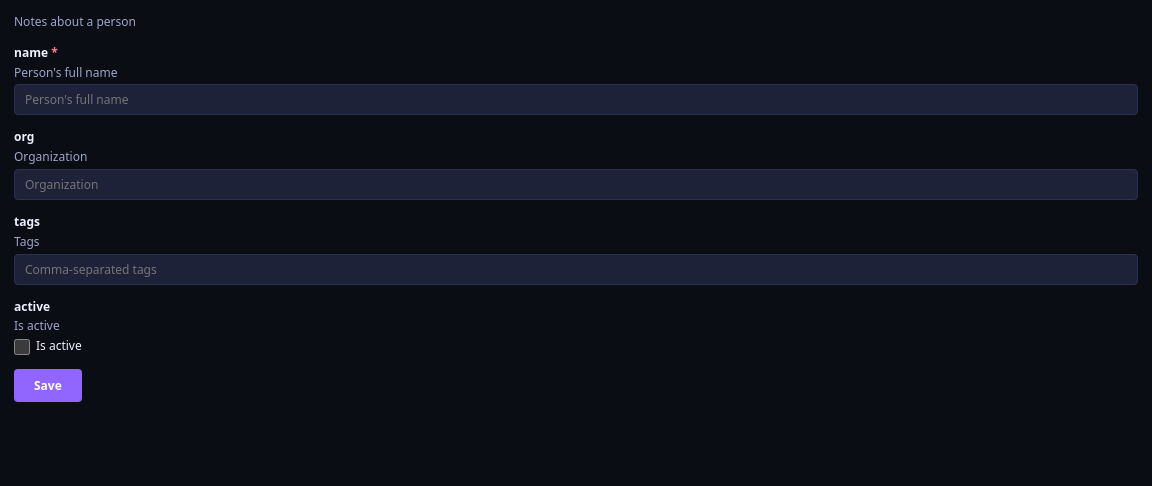
Test: FormEditor — validation › prevents save when required string field is empty
Click the button with test id "form-save-btn": (48, 386) [14,369,82,402]
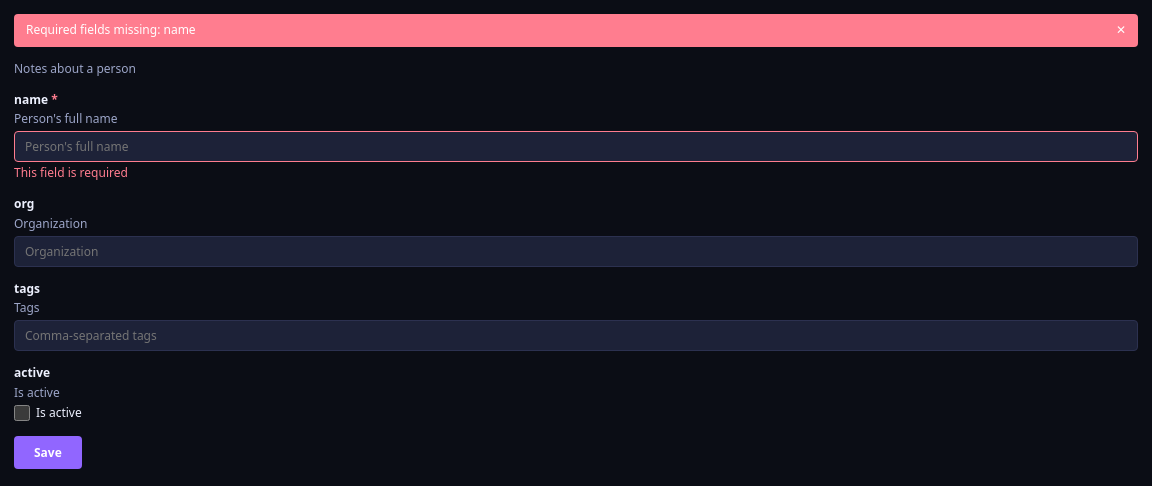
Expected: the message "Required fields missing: name ✕" is shown, [14,14,1138,47]
